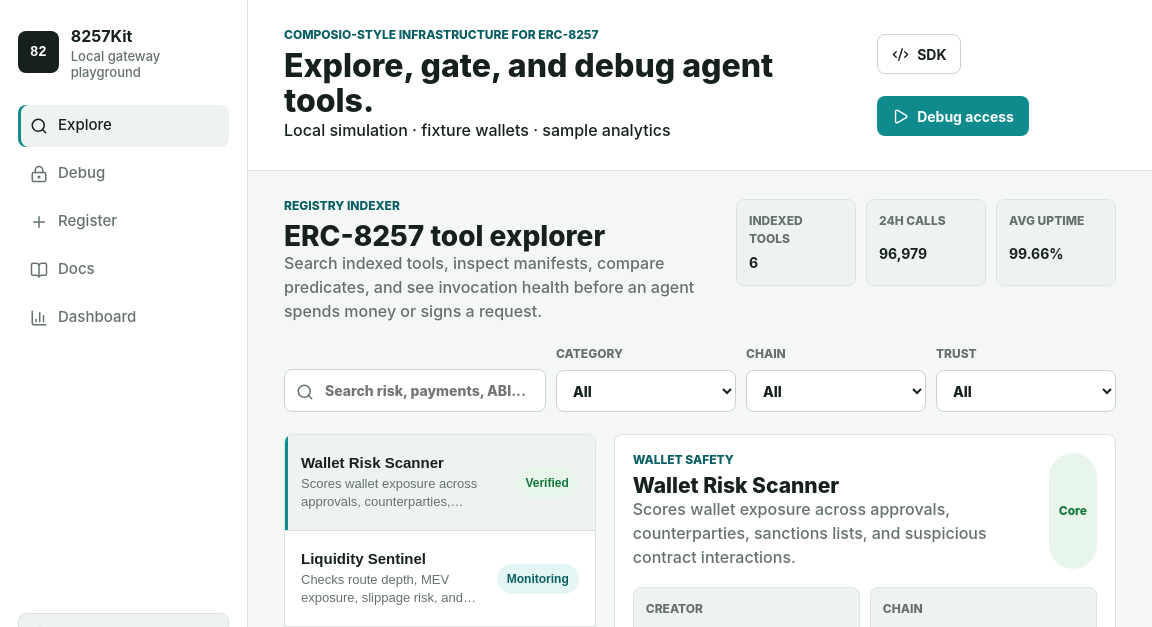
Test: 8257Kit app › shows route tabs and dashboard metrics
The image size is (1152, 627).
Click the link "Dashboard".
click(83, 317)  # box [30, 307, 136, 327]
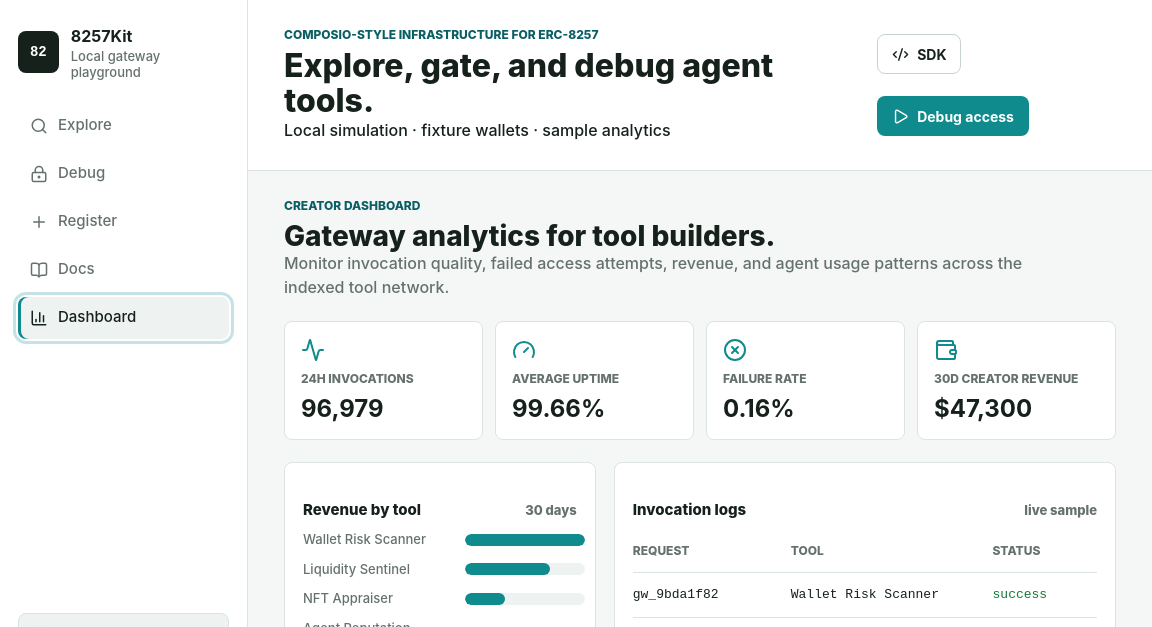
Now the heading "Gateway analytics for tool builders." is shown, box [284, 219, 775, 253]
Now the text "gw_9bda1f82" is shown, box [633, 587, 718, 602]
